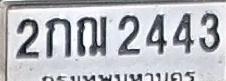2: (15, 18, 38, 58), (118, 14, 140, 55)
3: (199, 12, 220, 52)
4: (172, 12, 194, 53), (146, 13, 166, 54)
A01: (45, 16, 71, 58)
A12: (76, 15, 108, 56)
